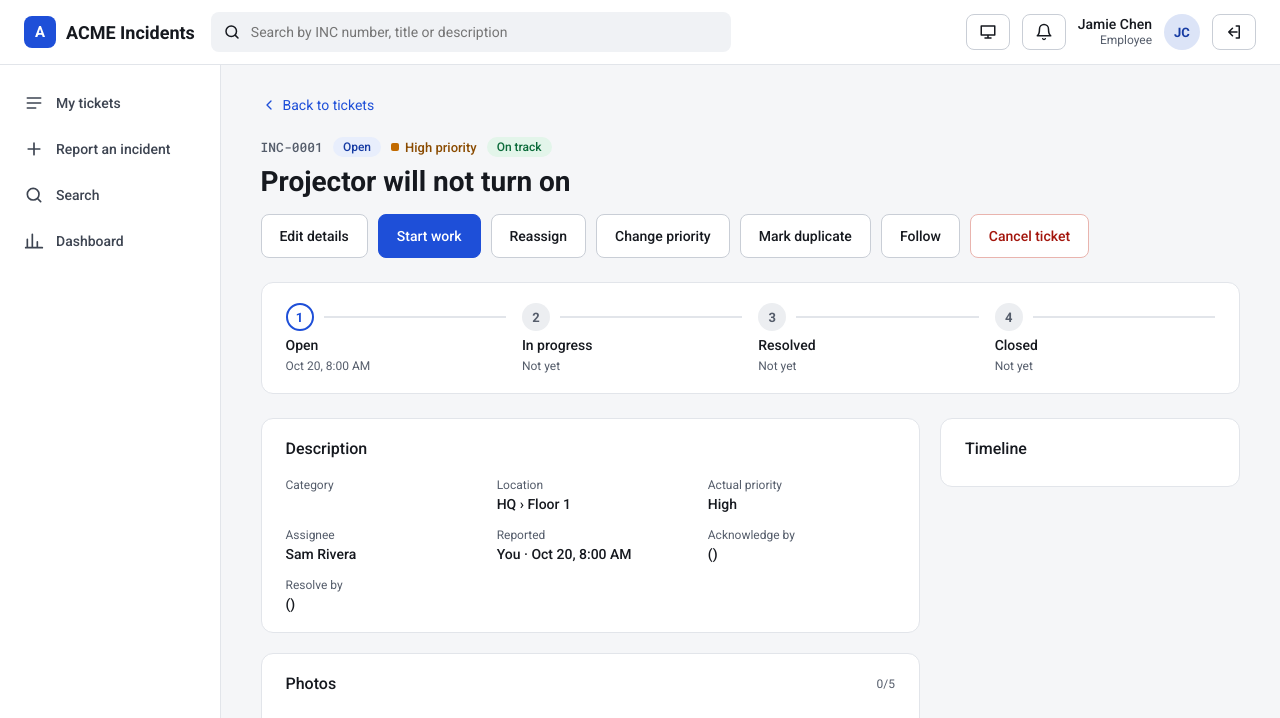
Test: ticket actions › sends one request when Start work is double-clicked
Expected: the heading "Projector will not turn on" is shown, top-left (260, 165), bottom-right (571, 198)
Double-click the button "Start work" at (429, 236), box top-left (378, 214), bottom-right (480, 258)
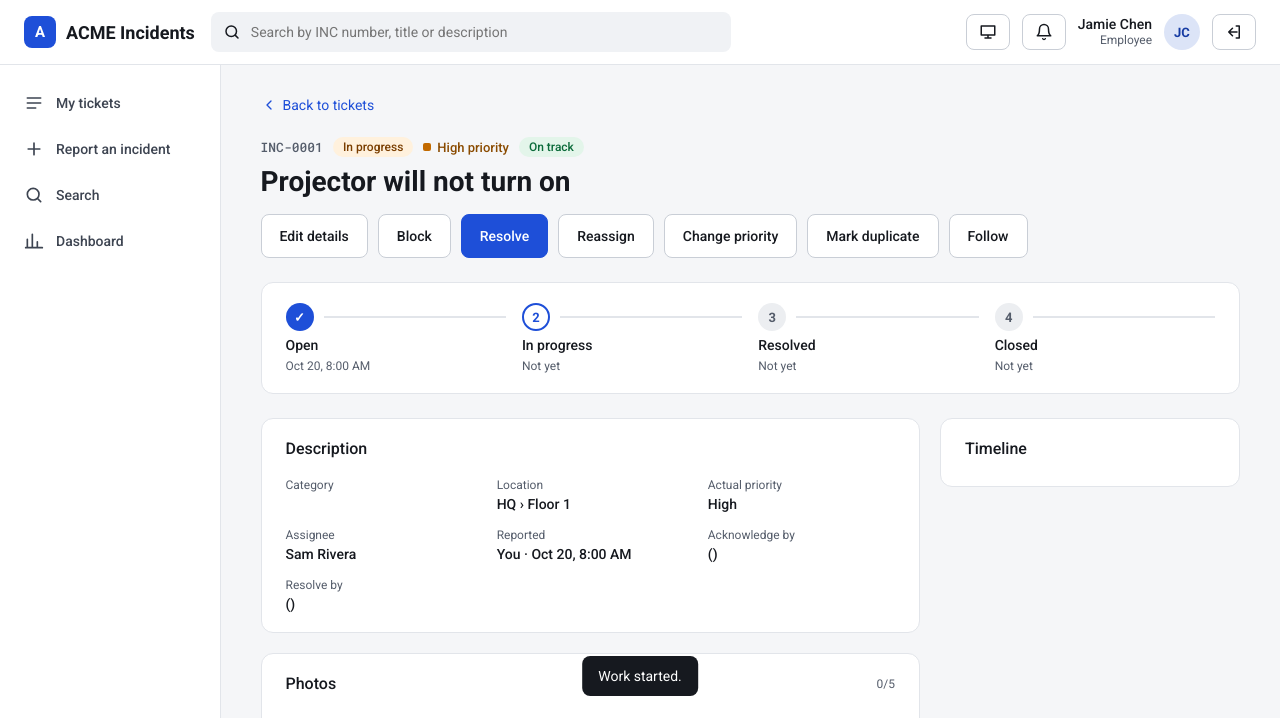
Expected: the text "Work started." is shown, top-left (582, 656), bottom-right (698, 696)
